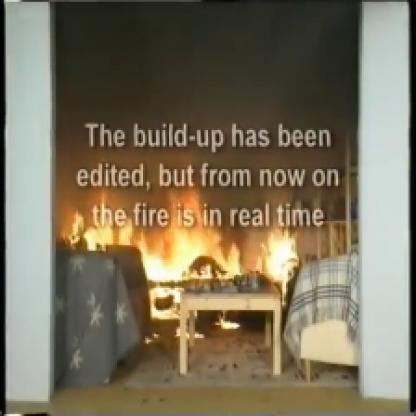fire: (75, 197, 244, 304), (238, 213, 308, 293), (207, 312, 257, 343)
